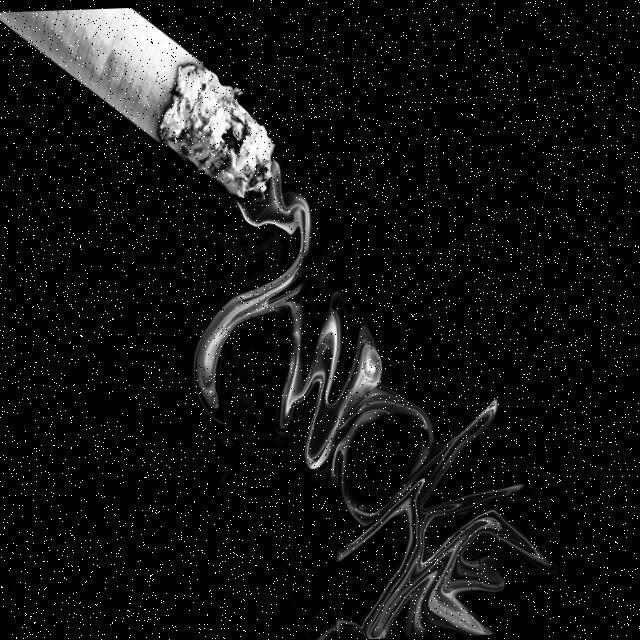cigarette: (0, 0, 303, 208)
